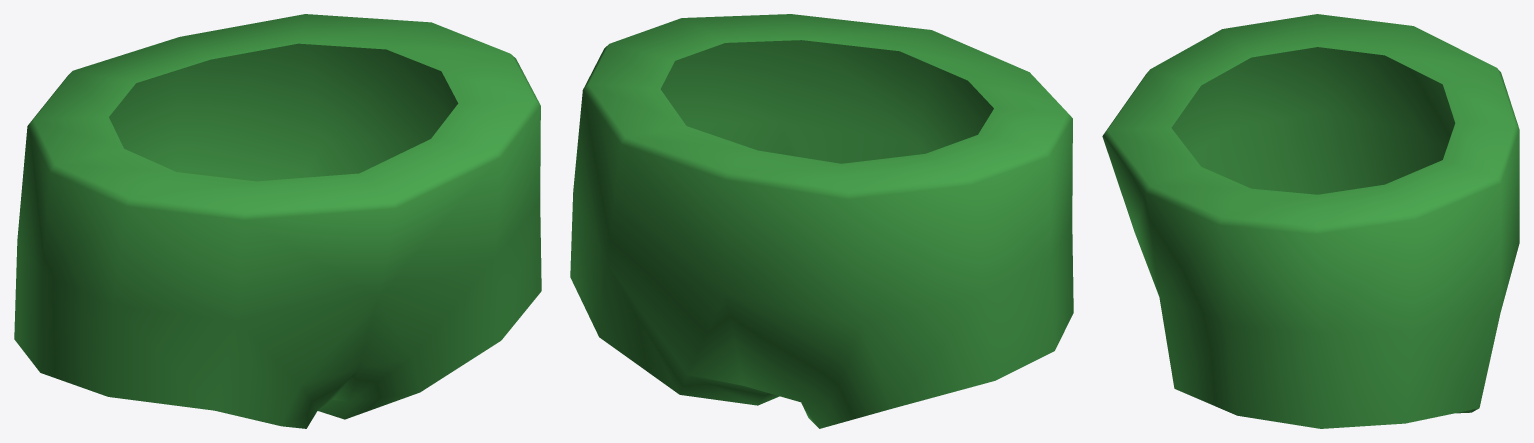
File: Pants_Green_003.glb
3 renders of one model, left to right at view 1: azimuth 30°, elevation 25°; view 2: azimuth 150°, elevation 25°; view 3: azimuth 270°, elevation 25°, orthographic. The views are drawn at different scales.
Visible parts, largest first — view 1: Pants_Green_003; view 2: Pants_Green_003; view 3: Pants_Green_003.
Part boxes in pixels (x1=…): Pants_Green_003: x1=14, y1=14, x2=541, y2=428; Pants_Green_003: x1=570, y1=14, x2=1073, y2=428; Pants_Green_003: x1=1102, y1=14, x2=1519, y2=428.
Bounding box in the file's own units: 0.4529 × 0.2677 × 0.3561.
1 material, 1 textured.
